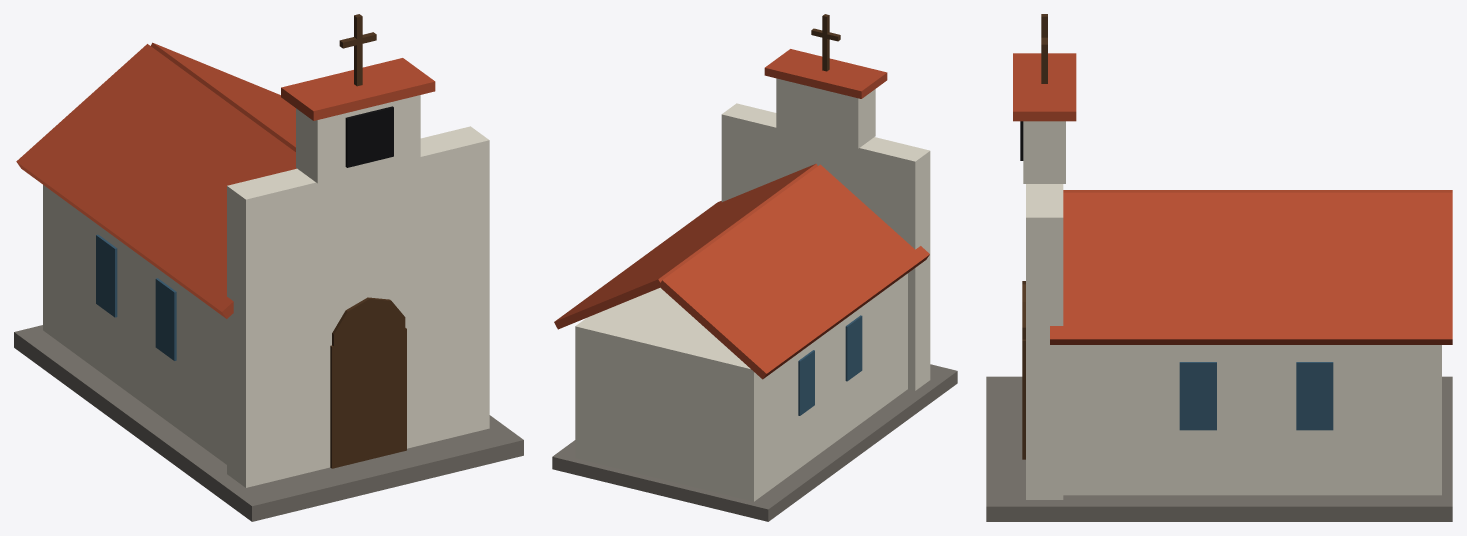
The model's file is Capilla.fbx.
3 views of the same model, side by side, from view 1: azimuth 30°, elevation 25°; view 2: azimuth 150°, elevation 25°; view 3: azimuth 270°, elevation 25° (orthographic). The views are drawn at different scales.
Parts seen in each view (by area): view 1: Capilla; view 2: Capilla; view 3: Capilla.
Part boxes in pixels (left/top/right/bottom): Capilla: left=14, top=14, right=523, bottom=521; Capilla: left=552, top=14, right=957, bottom=521; Capilla: left=986, top=14, right=1452, bottom=521.
Bounding box in the file's own units: 2.9 × 4.6 × 4.4.
